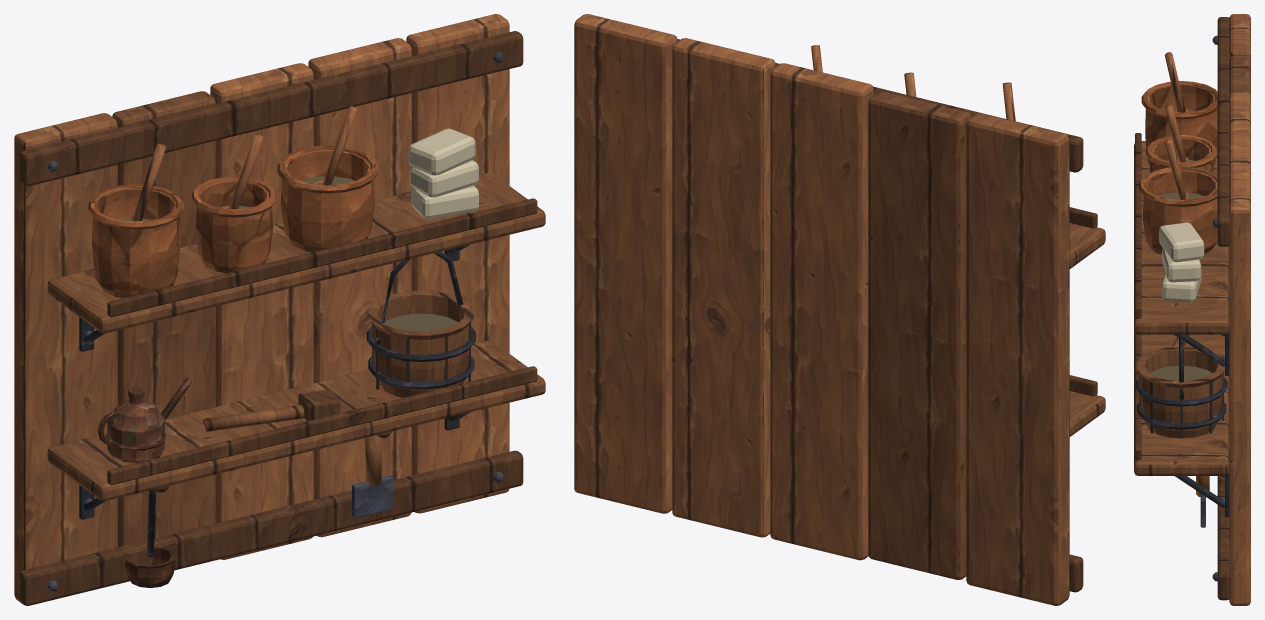
File: hw_grease_shelf.glb
3 renders of one model, left to right at view 1: azimuth 30°, elevation 25°; view 2: azimuth 150°, elevation 25°; view 3: azimuth 270°, elevation 25°, orthographic. The views are drawn at different scales.
Parts seen in each view (by area): view 1: model; view 2: model; view 3: model.
Boxes of the visible parts, bbox=[...] form: model: bbox=[14, 14, 545, 605]; model: bbox=[574, 14, 1105, 605]; model: bbox=[1134, 14, 1250, 605].
Size of the model in its own units: 1.12 by 1.01 by 0.27.
13 materials, 9 textured.
